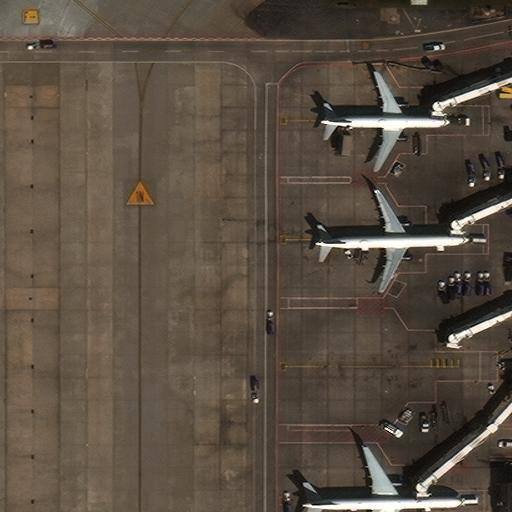Large Civil Transport: (301, 446, 463, 512)
Medium Civil Transport: (314, 189, 470, 292), (320, 71, 450, 170)
